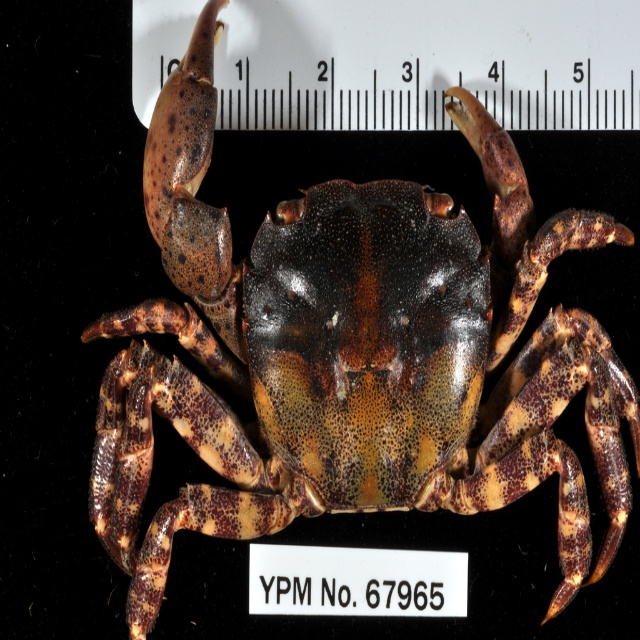Crab: (78, 0, 640, 639)
